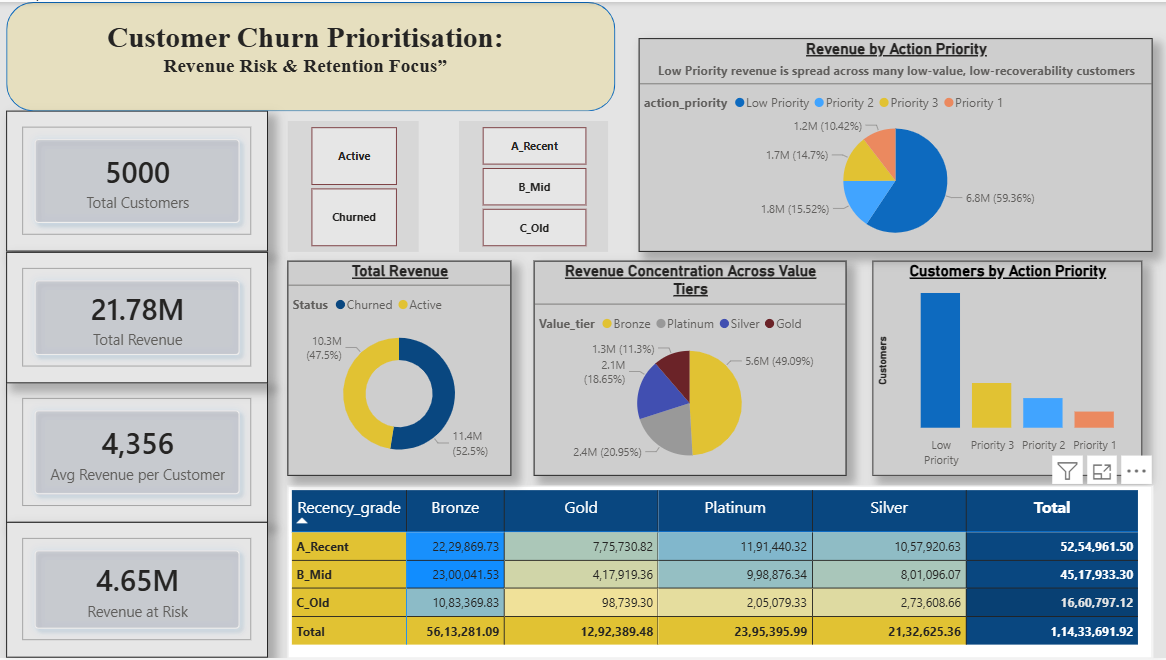

This screenshot's page, from the dashboard's own definition file:
{"tool":"powerbi","page":{"name":"Page 1","canvas":[1280,720],"ordinal":0},"visuals":[{"type":"cardVisual","fields":{"Data":["Count(project2ecom eccbp2.Customer_ID)"]},"box":[7.1,120,287.1,154.3],"z":0},{"type":"columnChart","title":"Customers by Action Priority","fields":{"Y":["CountNonNull(ECOMP2.Customer_ID)"],"Category":["ECOMP2.action_priority"]},"box":[957.1,284.3,295.7,235.7],"z":7000},{"type":"pieChart","title":"Revenue Concentration Across Value Tiers","fields":{"Category":["ECOMP2.Value_tier"],"Y":["Sum(ECOMP2.Total_revenue)"]},"box":[585.7,284.3,342.9,235.7],"z":8000},{"type":"pivotTable","fields":{"Rows":["ECOMP2.recency_grade"],"Columns":["ECOMP2.Value_tier"],"Values":["Sum(ECOMP2.Total_revenue)"]},"box":[315.7,531.4,950,188.6],"z":9000},{"type":"cardVisual","fields":{"Data":["ECOMP2.Avg Revenue per Customer"]},"box":[7.1,417.1,287.1,154.3],"z":9001},{"type":"cardVisual","fields":{"Data":["ECOMP2.Total Revenue"]},"box":[7.1,274.3,287.1,144.3],"z":9002},{"type":"cardVisual","fields":{"Data":["ECOMP2.Revenue at Risk"]},"box":[7.1,571.4,287.1,148.6],"z":9003},{"type":"donutChart","title":"Total Revenue","fields":{"Y":["Sum(ECOMP2.Total_revenue)"],"Category":["ECOMP2.Status"]},"box":[315.7,284.3,245.7,235.7],"z":9004},{"type":"shape","box":[7.1,0,668.6,120],"z":9006},{"type":"slicer","fields":{"Values":["ECOMP2.Status"]},"box":[315.7,130,144.3,144.3],"z":9008},{"type":"pieChart","title":"Revenue by Action Priority","fields":{"Y":["Sum(ECOMP2.Total_revenue)"],"Category":["ECOMP2.action_priority"]},"box":[701.4,40,564.3,234.3],"z":9009},{"type":"textbox","box":[30,15.7,610,78.6],"z":9010},{"type":"slicer","fields":{"Values":["ECOMP2.recency_grade"]},"box":[504.3,130,164.3,144.3],"z":9011}]}

Visuals, with their boxes in screenshot pixels (x1, y1, x2, y2), scaled from the page's 1280x720 canvas onto the 1166x660 screenshot:
cardVisual - Count(project2ecom eccbp2.Customer_ID): 6:110:268:251
"Customers by Action Priority" columnChart: 872:261:1141:477
"Revenue Concentration Across Value Tiers" pieChart: 534:261:846:477
pivotTable - ECOMP2.recency_grade x ECOMP2.Value_tier: 288:487:1153:659
cardVisual - ECOMP2.Avg Revenue per Customer: 6:382:268:524
cardVisual - ECOMP2.Total Revenue: 6:251:268:384
cardVisual - ECOMP2.Revenue at Risk: 6:524:268:659
"Total Revenue" donutChart: 288:261:511:477
shape: 6:0:616:110
slicer - ECOMP2.Status: 288:119:419:251
"Revenue by Action Priority" pieChart: 639:37:1153:251
textbox: 27:14:583:86
slicer - ECOMP2.recency_grade: 459:119:609:251
